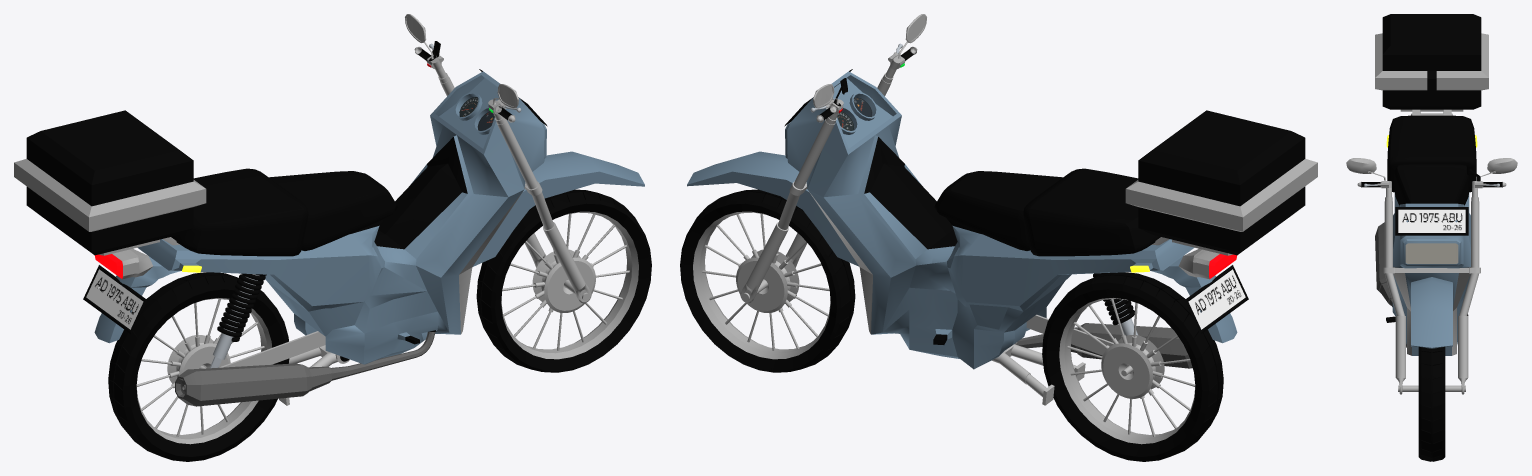
The model's file is Motor.fbx.
3 renders of one model, left to right at view 1: azimuth 30°, elevation 25°; view 2: azimuth 150°, elevation 25°; view 3: azimuth 270°, elevation 25°, orthographic. The views are drawn at different scales.
Parts seen in each view (by area): view 1: Plane.045, Circle.035, Circle.031, Circle.036; view 2: Plane.045, Circle.036, Circle.035, Circle.031; view 3: Plane.045, Circle.035, Circle.031.
Part boxes in pixels (x1,y1,x2,y2): Plane.045: (14,110,523,406); Circle.035: (405,14,644,303); Circle.031: (476,189,651,372); Circle.036: (108,272,289,461); Plane.045: (808,110,1317,405); Circle.036: (1042,272,1223,461); Circle.035: (687,14,926,303); Circle.031: (680,189,855,372); Plane.045: (1375,14,1488,355); Circle.035: (1346,158,1517,394); Circle.031: (1418,347,1445,461).
Size of the model in its own units: 9.78 by 5.35 by 3.21.
Materials: 22 (4 with a texture image).
